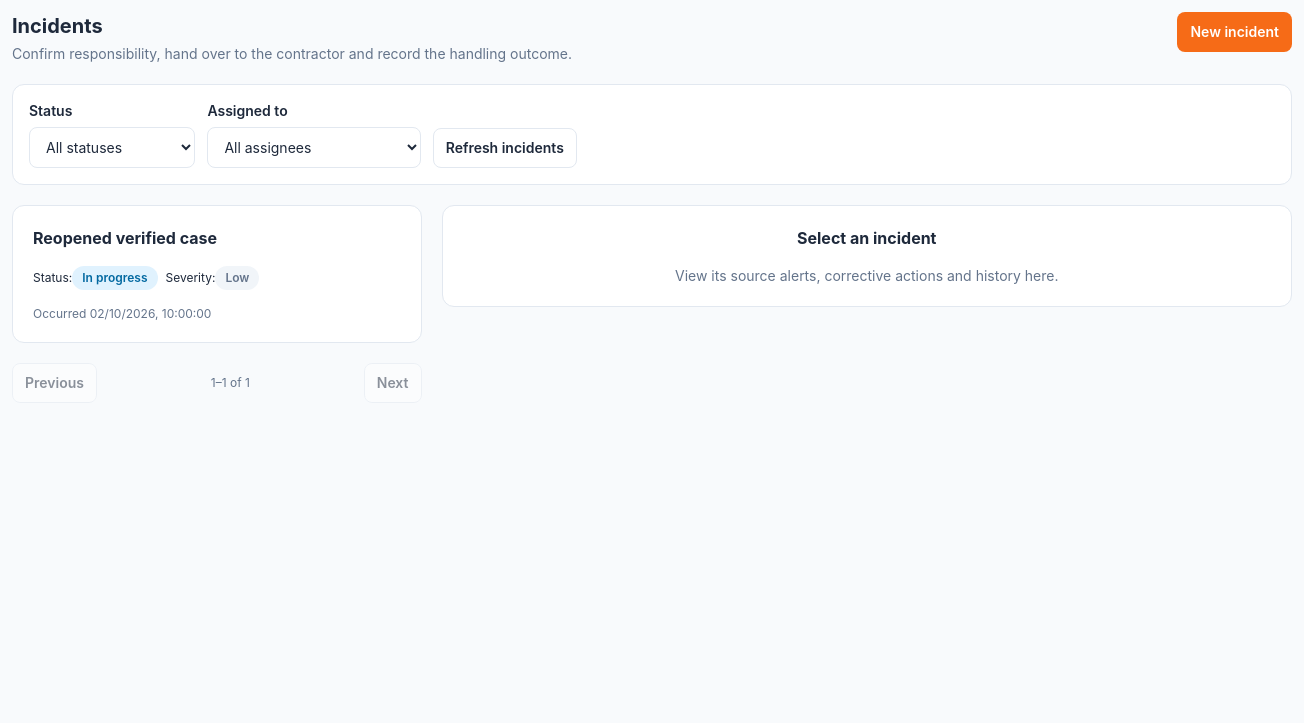
Test case: Incident reflects server closure false without a separate close step
The image size is (1304, 723).
Click the button "Reopened verified case": coordinates (217, 274) [12,205,422,343]
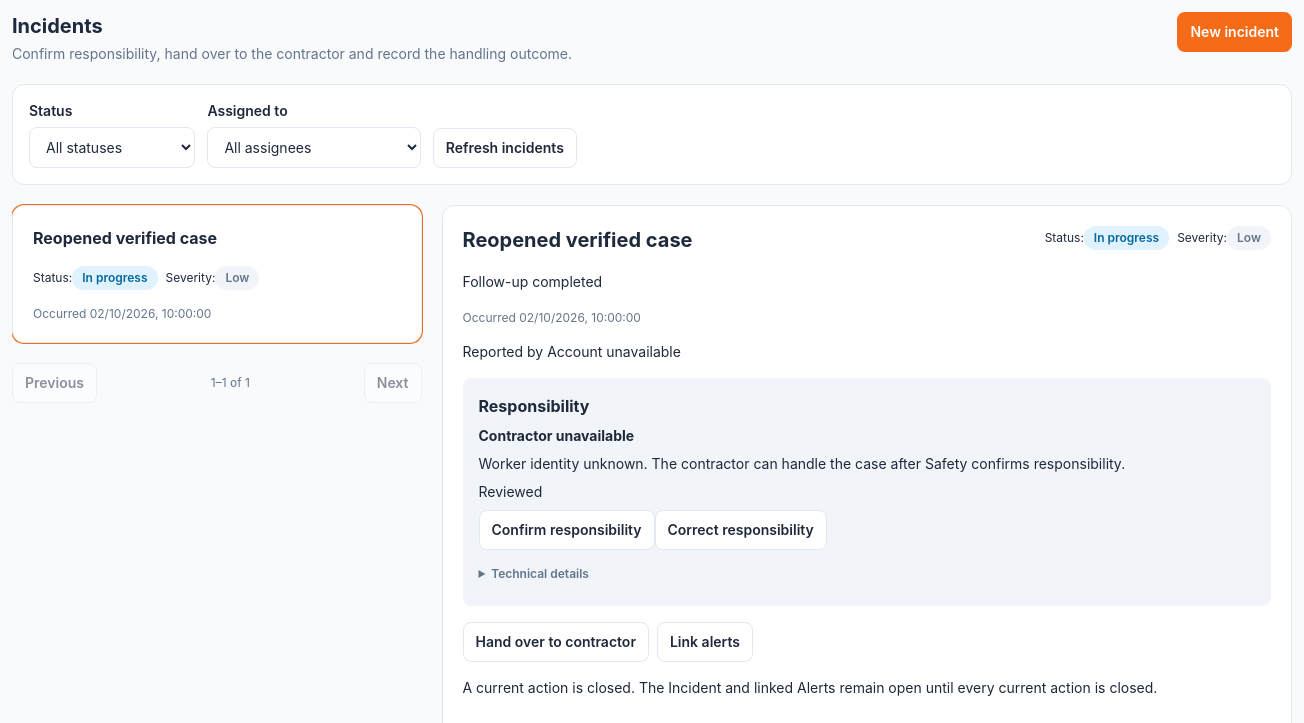
expect the text "Follow-up completed" is shown: met, box [462,273,602,290]
expect the text "The Incident and linked Alerts remain open" is shown: met, box [462,679,1157,696]
